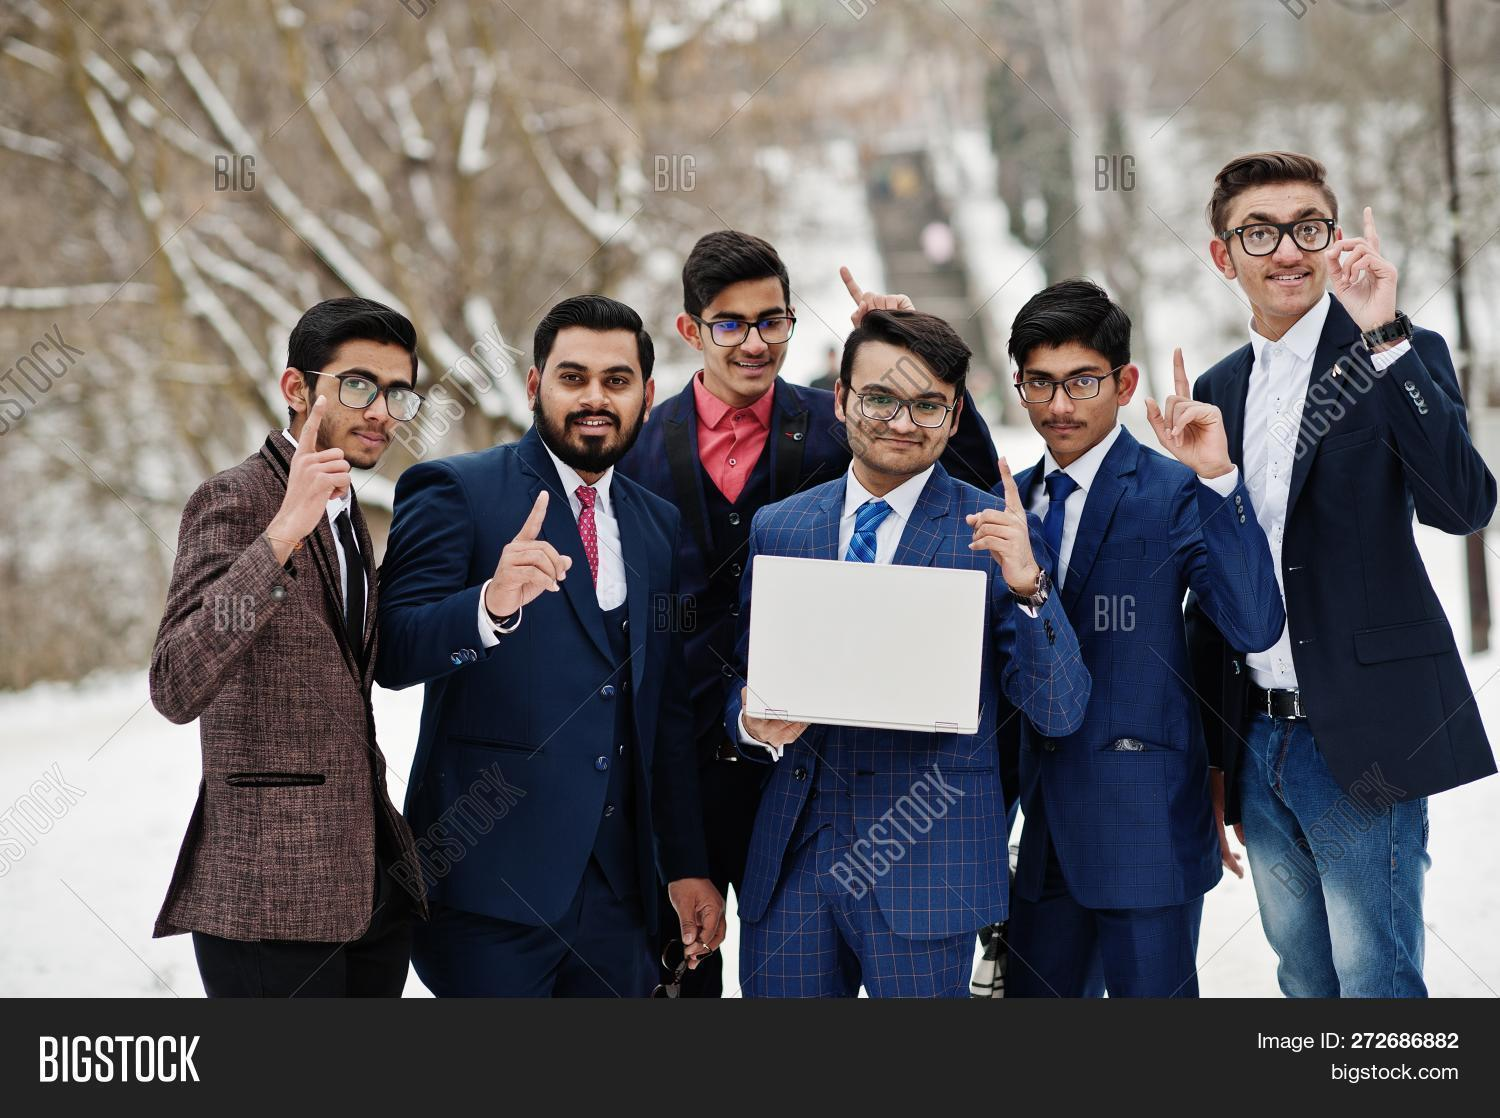men: (1190, 158, 1394, 325), (251, 289, 424, 468), (997, 280, 1162, 462), (511, 290, 658, 485), (825, 299, 973, 486), (657, 213, 801, 401)
